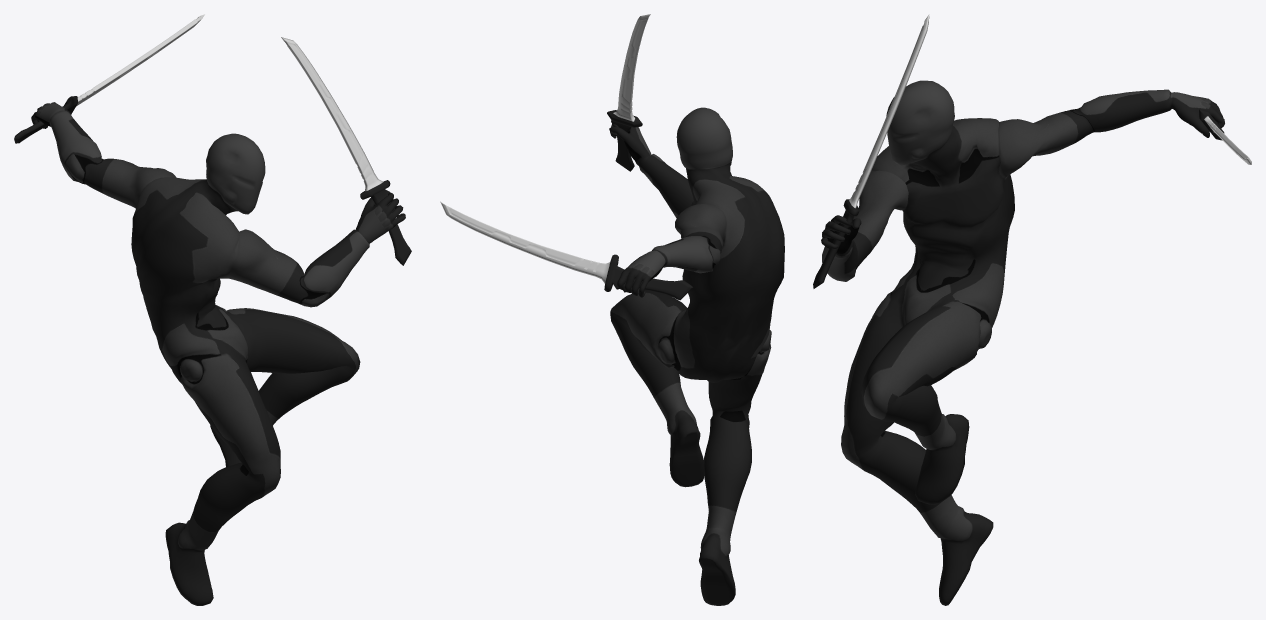
The picture shows the model from 3 angles, left to right: view 1: azimuth 30°, elevation 25°; view 2: azimuth 150°, elevation 25°; view 3: azimuth 270°, elevation 25°; orthographic projection. The views are drawn at different scales.
Parts seen in each view (by area): view 1: Cyborg_Ninja_Killer, Sword_l001, Sword_l; view 2: Cyborg_Ninja_Killer, Sword_l, Sword_l001; view 3: Cyborg_Ninja_Killer, Sword_l001, Sword_l.
Part boxes in pixels (<box>): Cyborg_Ninja_Killer: <box>31,102,405,605</box>; Sword_l001: <box>281,37,411,265</box>; Sword_l: <box>14,14,204,143</box>; Cyborg_Ninja_Killer: <box>609,107,784,605</box>; Sword_l: <box>440,201,692,300</box>; Sword_l001: <box>607,14,650,171</box>; Cyborg_Ninja_Killer: <box>821,80,1224,605</box>; Sword_l001: <box>813,14,929,288</box>; Sword_l: <box>1199,109,1251,164</box>.
Bounding box in the file's own units: 91.97 × 206 × 131.
2 materials, 2 textured.
